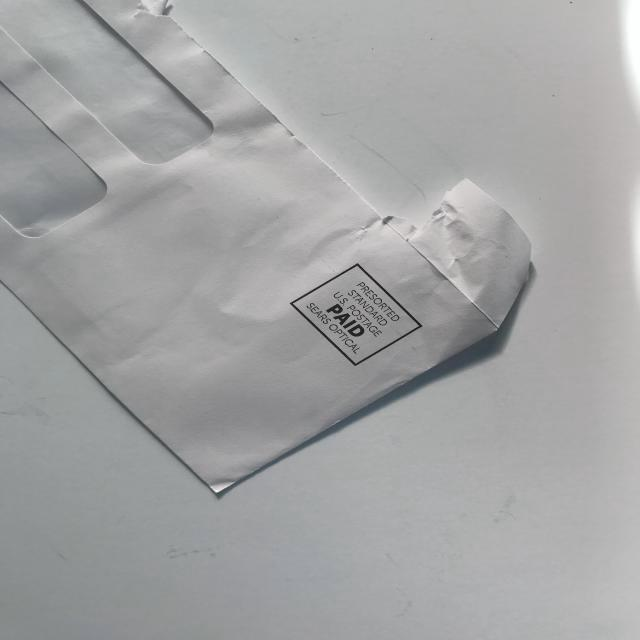paper: (0, 0, 554, 531)
